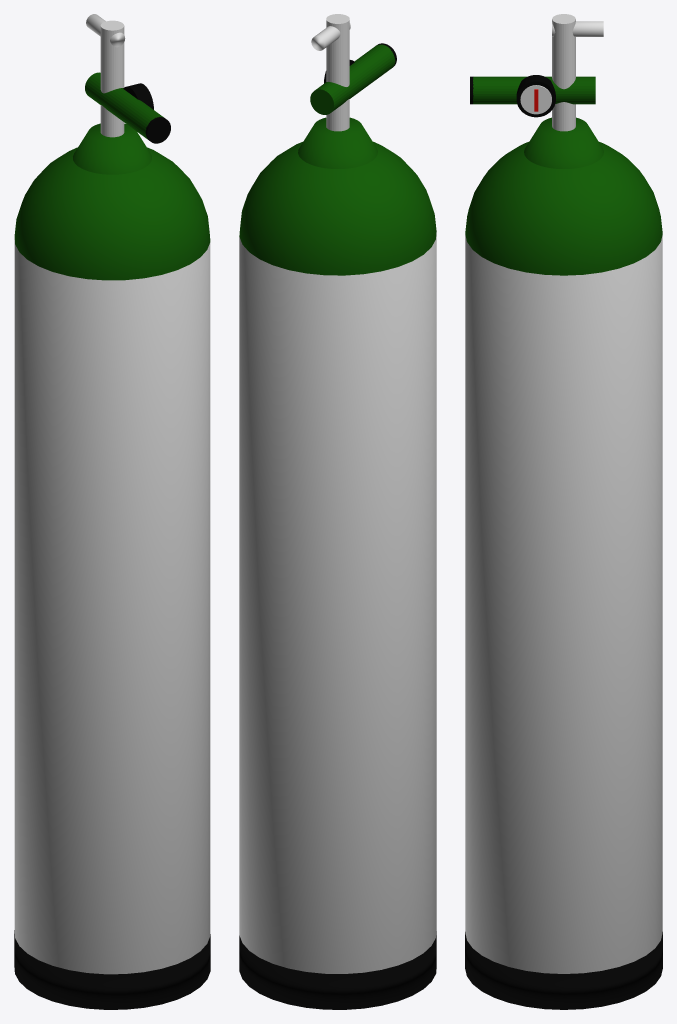
The model's file is Otank.gltf.
3 views of the same model, side by side, from view 1: azimuth 30°, elevation 25°; view 2: azimuth 150°, elevation 25°; view 3: azimuth 270°, elevation 25° (orthographic).
Parts seen in each view (by area): view 1: Cylinder, Sphere, Cylinder.001, Cylinder.002, Cylinder.003, Cylinder.004, Cylinder.005; view 2: Cylinder, Sphere, Cylinder.001, Cylinder.002, Cylinder.004, Cylinder.003, Cylinder.006; view 3: Cylinder, Sphere, Cylinder.001, Cylinder.002, Cylinder.004, Cylinder.003, Cylinder.008, Cylinder.007, Cylinder.006.
Boxes of the visible parts, bbox=[...] form: Cylinder: bbox=[14, 240, 210, 974]; Sphere: bbox=[14, 147, 210, 280]; Cylinder.001: bbox=[14, 930, 210, 1009]; Cylinder.002: bbox=[73, 123, 151, 174]; Cylinder.003: bbox=[100, 20, 124, 137]; Cylinder.004: bbox=[85, 72, 163, 139]; Cylinder.005: bbox=[145, 117, 170, 143]; Cylinder: bbox=[239, 232, 436, 973]; Sphere: bbox=[239, 141, 436, 275]; Cylinder.001: bbox=[239, 931, 436, 1009]; Cylinder.002: bbox=[298, 117, 377, 168]; Cylinder.004: bbox=[310, 44, 395, 114]; Cylinder.003: bbox=[326, 14, 349, 131]; Cylinder.006: bbox=[311, 23, 350, 50]; Cylinder: bbox=[465, 235, 662, 973]; Sphere: bbox=[465, 142, 662, 275]; Cylinder.001: bbox=[465, 932, 662, 1009]; Cylinder.002: bbox=[524, 117, 603, 168]; Cylinder.004: bbox=[473, 76, 595, 104]; Cylinder.003: bbox=[552, 14, 575, 131]; Cylinder.008: bbox=[520, 85, 551, 114]; Cylinder.007: bbox=[516, 75, 555, 117]; Cylinder.006: bbox=[552, 21, 603, 36].
Bounding box in the file's own units: 1 × 5.3 × 1.
